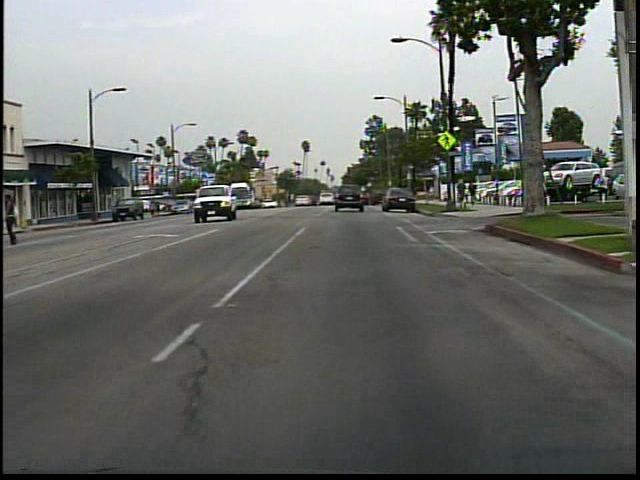person: (9, 193, 31, 246), (532, 177, 554, 218)
